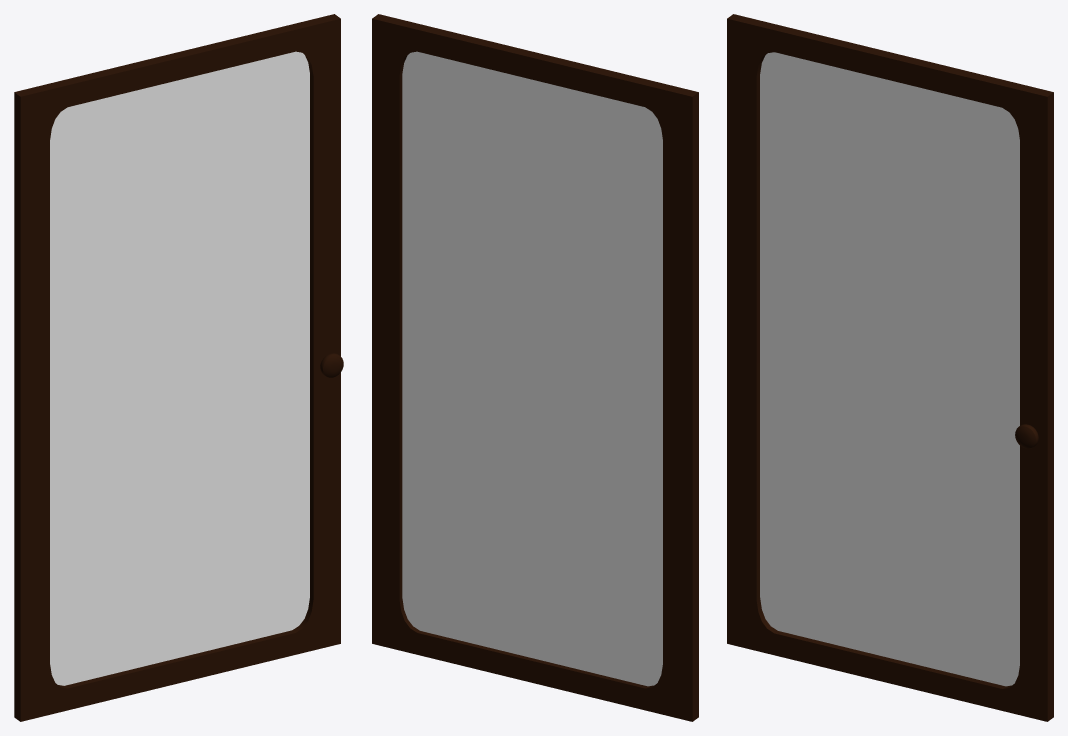
Rendered from cabinet_glass_door_left.FBX.
The picture shows the model from 3 angles, left to right: view 1: azimuth 30°, elevation 25°; view 2: azimuth 150°, elevation 25°; view 3: azimuth 330°, elevation 25°; orthographic projection.
Visible parts, largest first — view 1: cabinet_glass_door_left; view 2: cabinet_glass_door_left; view 3: cabinet_glass_door_left.
Boxes of the visible parts, x1,y1,x2,y2 form: cabinet_glass_door_left: [14, 14, 343, 721]; cabinet_glass_door_left: [372, 14, 698, 721]; cabinet_glass_door_left: [727, 14, 1053, 721].
Bounding box in the file's own units: 34.54 × 64.4 × 2.81.
